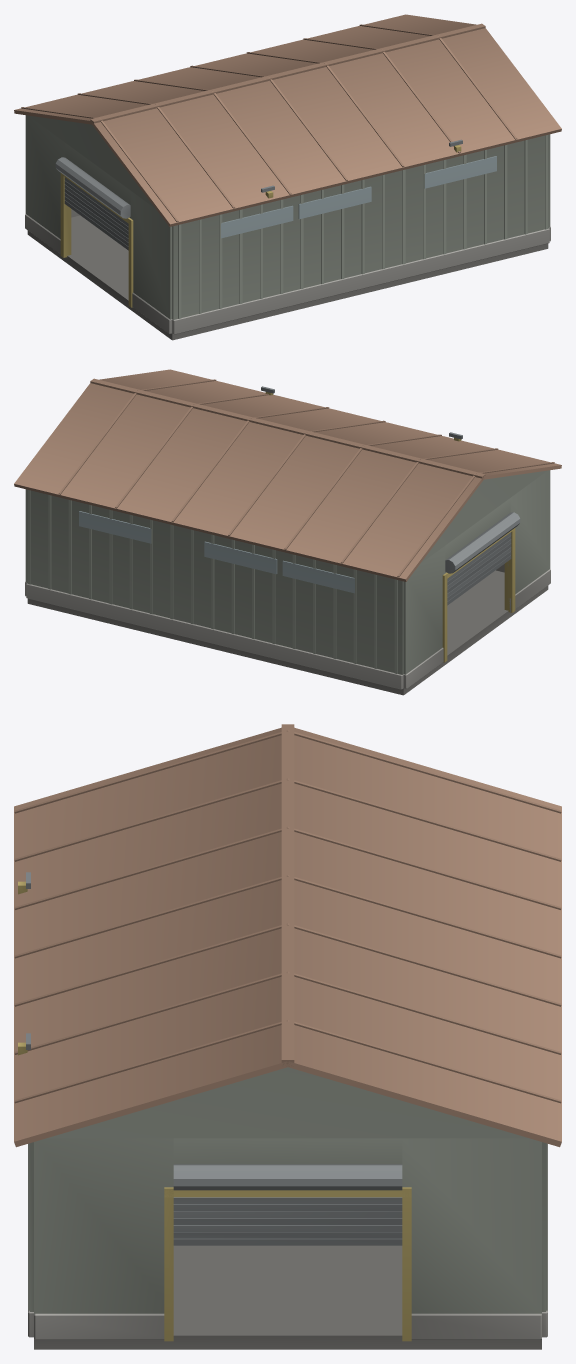
The model's file is mil_warehouse.glb.
3 views of the same model, one above another, from view 1: azimuth 30°, elevation 25°; view 2: azimuth 150°, elevation 25°; view 3: azimuth 270°, elevation 25° (orthographic). The views are drawn at different scales.
Parts seen in each view (by area): view 1: mil_warehouse; view 2: mil_warehouse; view 3: mil_warehouse.
Boxes of the visible parts, x1,y1,x2,y2 form: mil_warehouse: [14, 14, 561, 340]; mil_warehouse: [14, 369, 561, 695]; mil_warehouse: [14, 724, 561, 1349].
Size of the model in its own units: 25.5 by 10.31 by 17.26.
